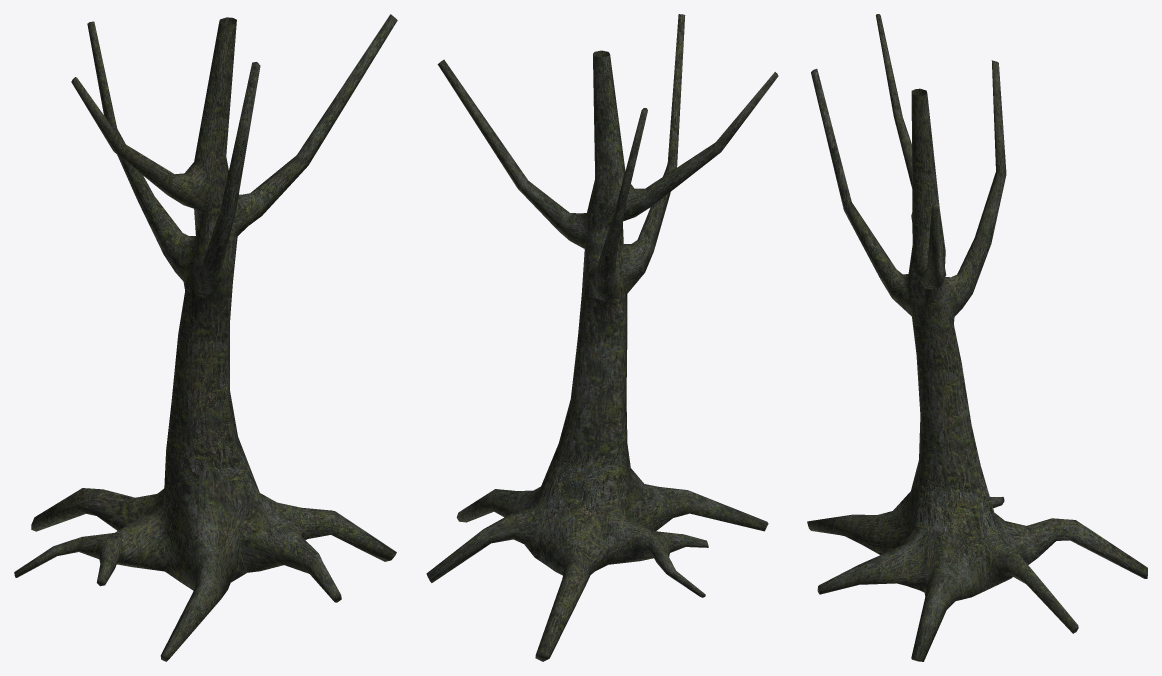
File: TreeOasis.FBX
3 renders of one model, left to right at view 1: azimuth 30°, elevation 25°; view 2: azimuth 150°, elevation 25°; view 3: azimuth 270°, elevation 25°, orthographic. The views are drawn at different scales.
Visible parts, largest first — view 1: TreeOasis01:0; view 2: TreeOasis01:0; view 3: TreeOasis01:0.
Boxes of the visible parts, x1,y1,x2,y2 form: TreeOasis01:0: (14, 14, 397, 661); TreeOasis01:0: (426, 14, 778, 661); TreeOasis01:0: (807, 14, 1147, 661).
Bounding box in the file's own units: 4.28 × 6.87 × 4.06.
